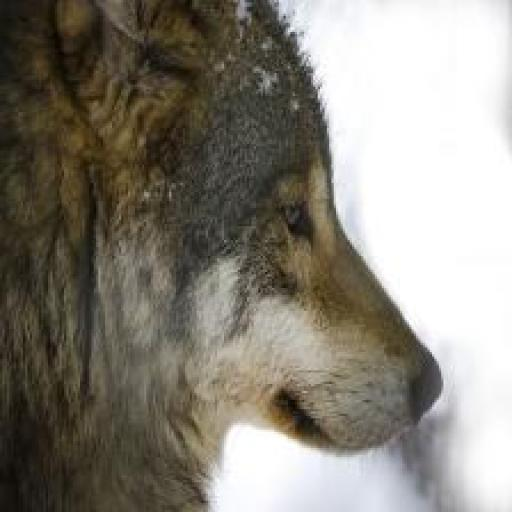wolf: (2, 0, 448, 512)
